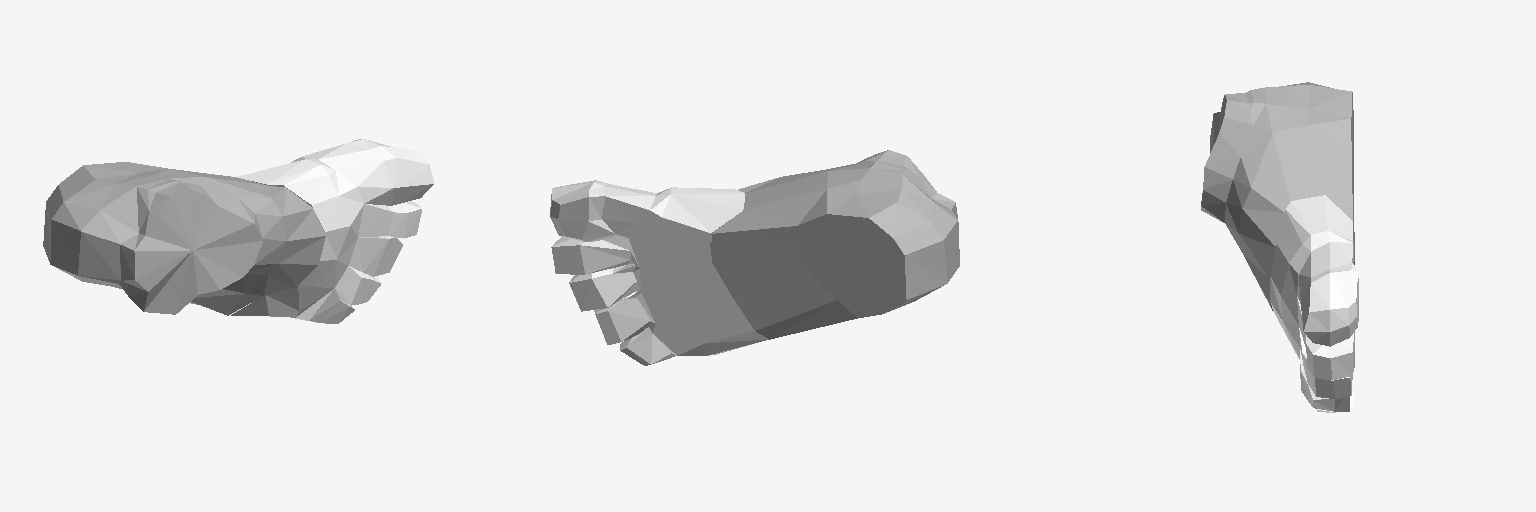
The model's file is FootModel.obj.
The picture shows the model from 3 angles: view 1: azimuth 30°, elevation 25°; view 2: azimuth 150°, elevation 25°; view 3: azimuth 270°, elevation 25°; orthographic projection.
Parts seen in each view (by area): view 1: RightFootChanges1:_pose2:RFoot:polySurface1, RightFootChanges1:_pose2:rtoes; view 2: RightFootChanges1:_pose2:RFoot:polySurface1, RightFootChanges1:_pose2:rtoes; view 3: RightFootChanges1:_pose2:RFoot:polySurface1, RightFootChanges1:_pose2:rtoes.
Boxes of the visible parts, x1,y1,x2,y2 form: RightFootChanges1:_pose2:RFoot:polySurface1: [43, 162, 325, 315]; RightFootChanges1:_pose2:rtoes: [230, 139, 433, 323]; RightFootChanges1:_pose2:RFoot:polySurface1: [709, 150, 959, 339]; RightFootChanges1:_pose2:rtoes: [550, 180, 769, 365]; RightFootChanges1:_pose2:RFoot:polySurface1: [1201, 82, 1354, 310]; RightFootChanges1:_pose2:rtoes: [1270, 195, 1358, 412].
Size of the model in its own units: 26.33 by 14.33 by 9.38.